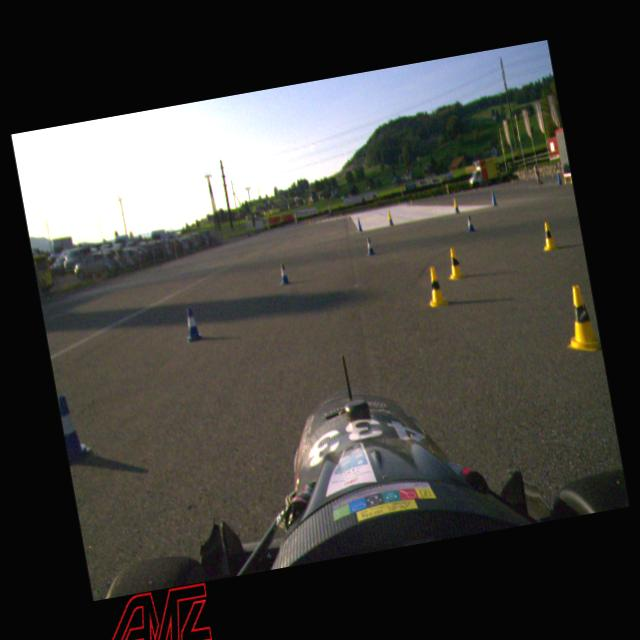blue_cone: (56, 391, 94, 466), (182, 305, 204, 343), (278, 262, 292, 286), (364, 236, 376, 256), (464, 214, 476, 234), (490, 190, 498, 208), (356, 217, 363, 230)
yellow_cone: (556, 282, 602, 356), (422, 265, 450, 309), (443, 245, 464, 281), (538, 220, 560, 252)
